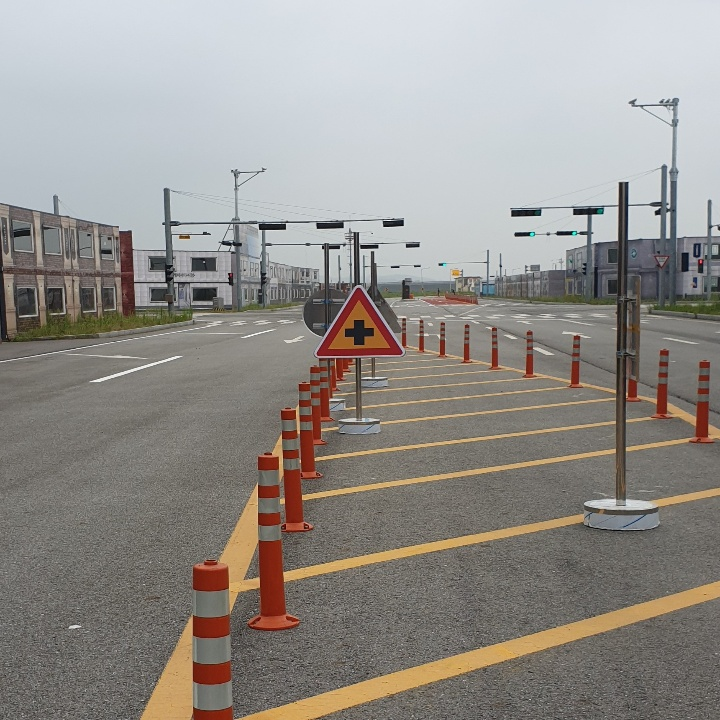inter: (338, 317, 377, 352)
